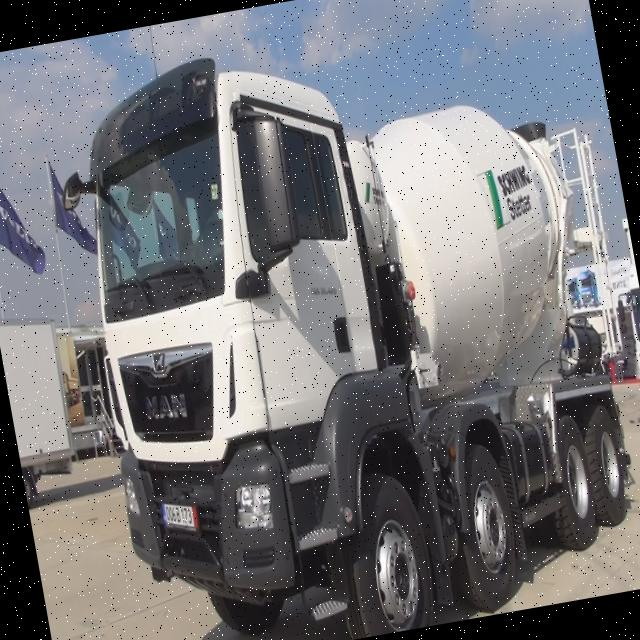Mixer Truck: (51, 0, 640, 640), (616, 257, 640, 430)
